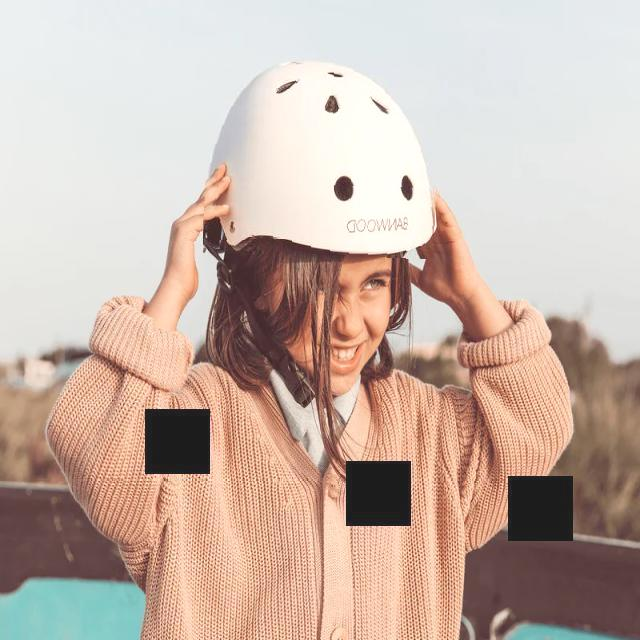helmet: (205, 56, 440, 257)
